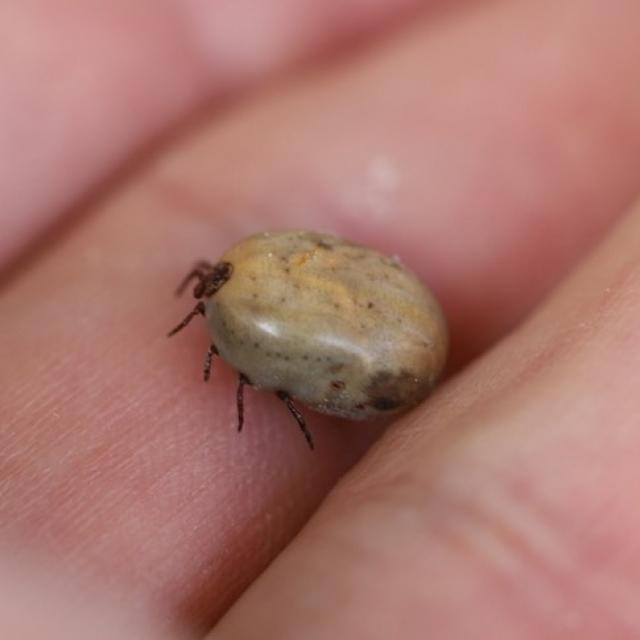Dermacentor Reticulatus-F-Fed: (166, 230, 449, 451)
